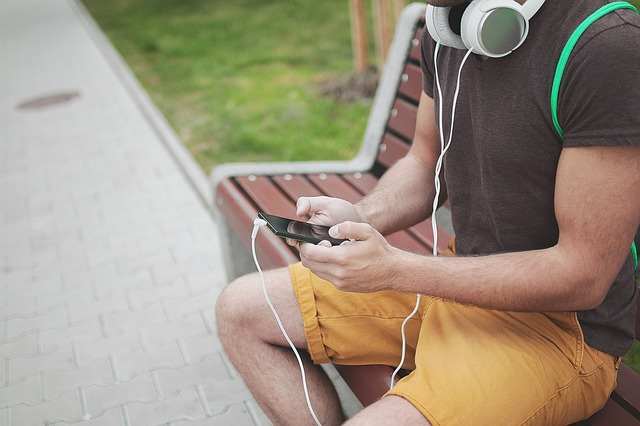headphones: (426, 1, 546, 57)
